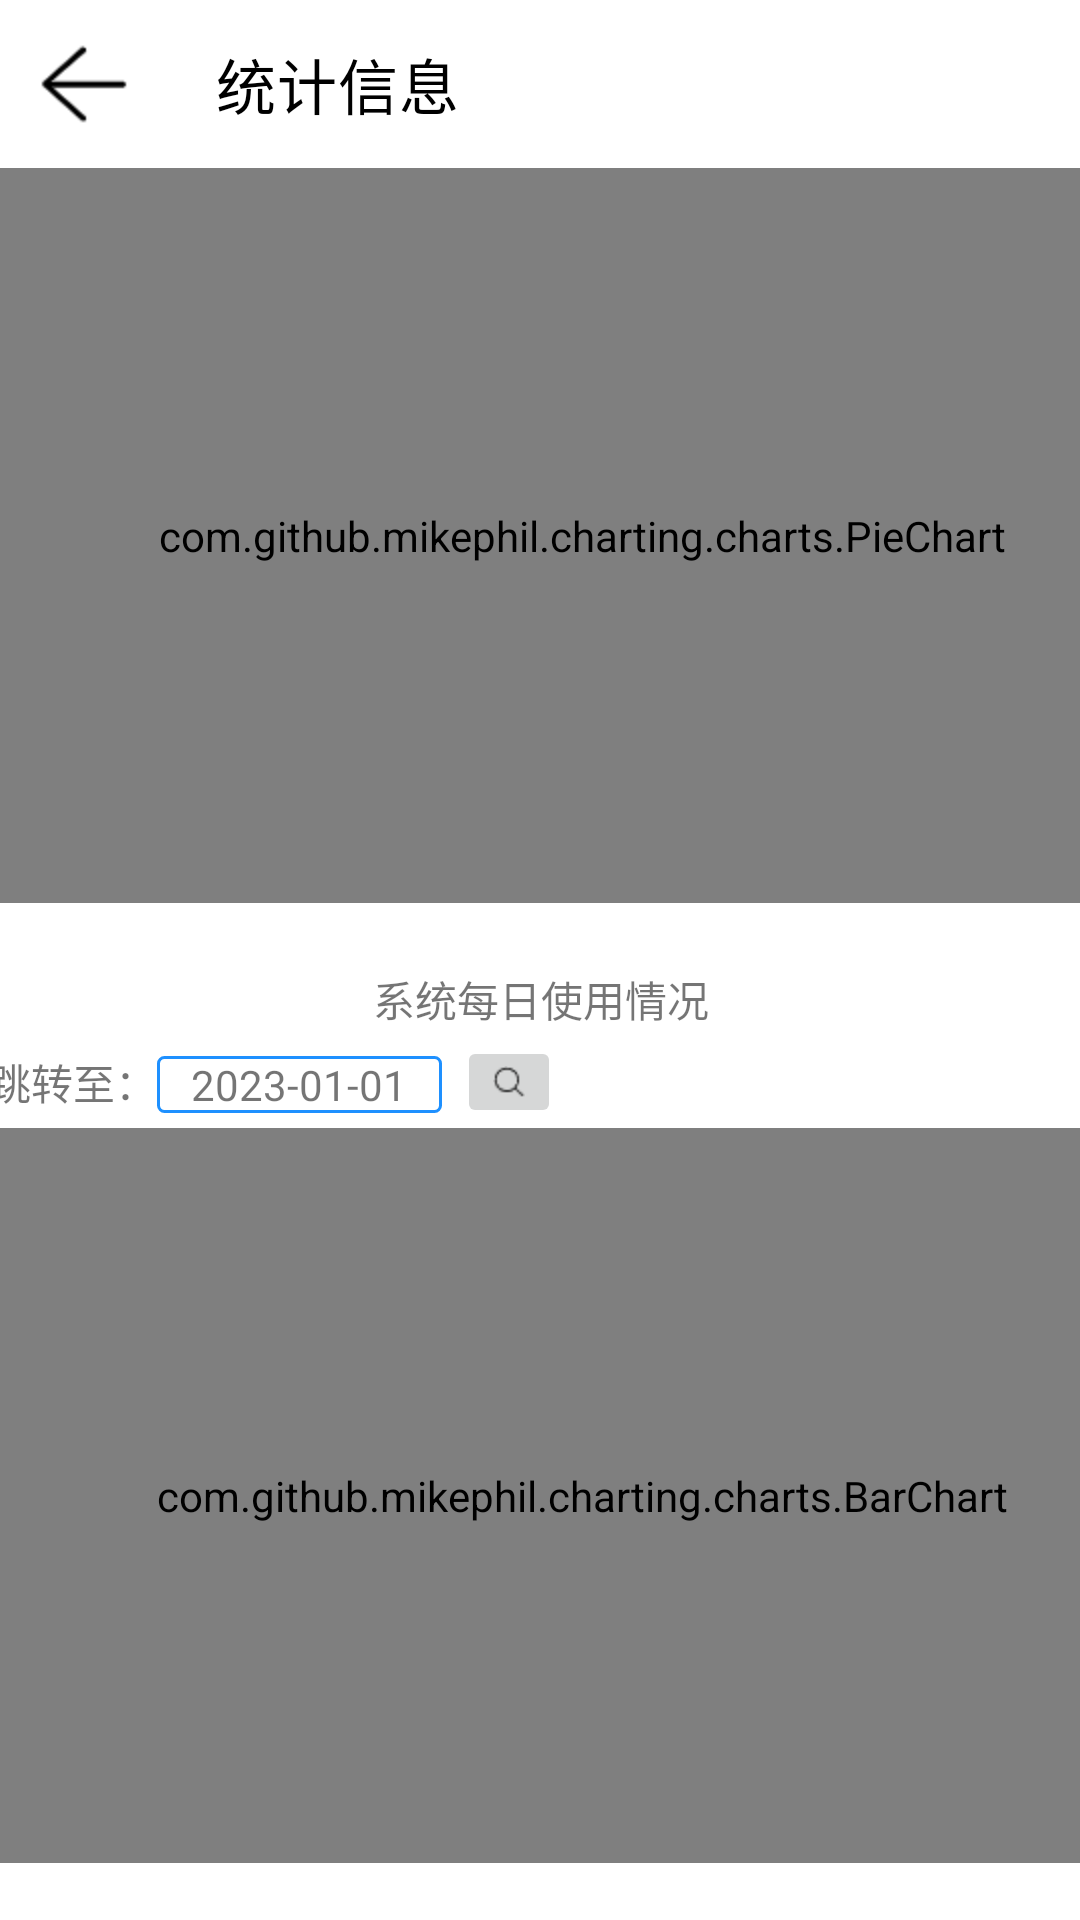

Named icons in this screenshot (1080*1920) and their centers, (x=x, y=y):
search: (x=509, y=1082)
